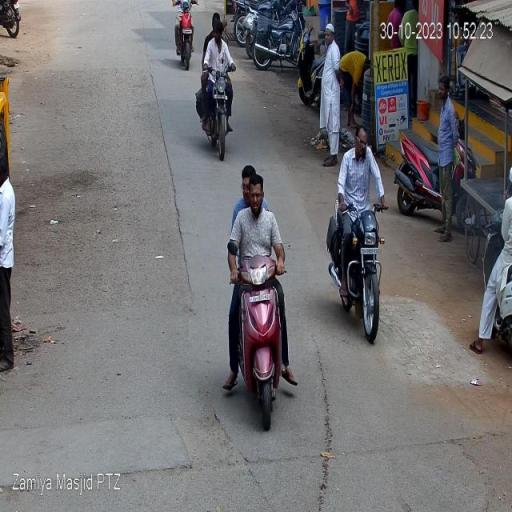using mobile: (362, 133, 370, 169)
